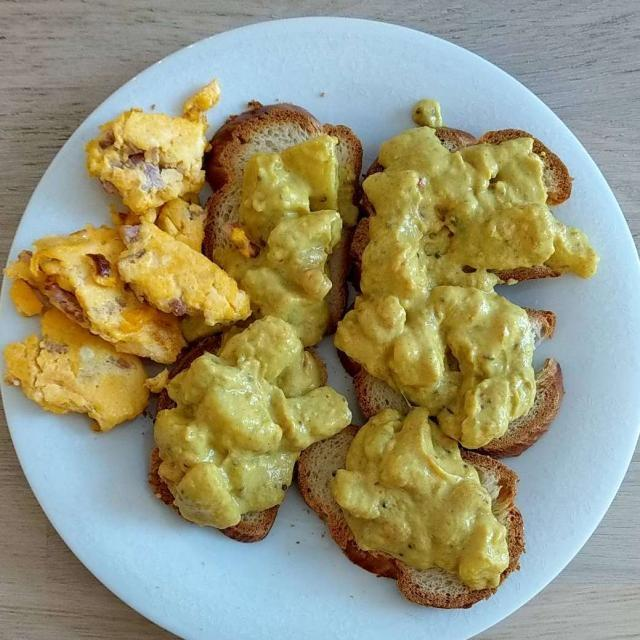bread: (156, 107, 575, 594)
eggs: (25, 98, 262, 446)
potatoes: (177, 130, 574, 581)
sauce: (185, 130, 566, 584)
